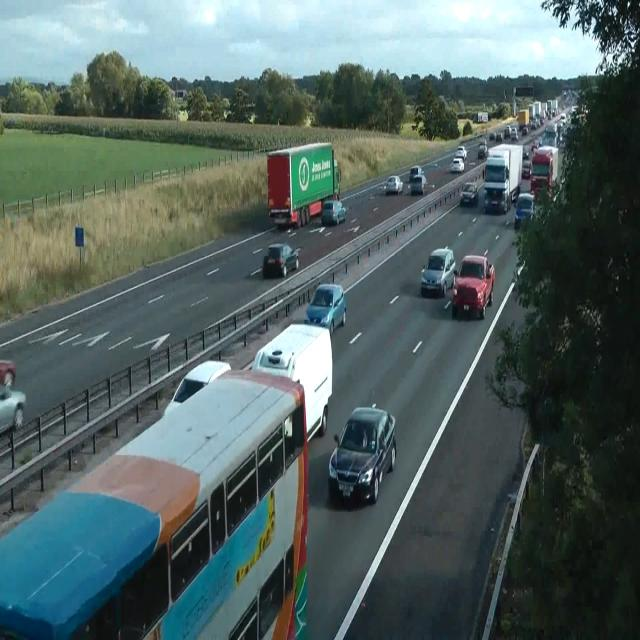bus: (304, 283, 346, 334), (0, 383, 26, 434), (262, 243, 299, 278), (513, 192, 535, 229), (321, 200, 346, 226), (0, 359, 16, 387), (460, 182, 478, 205), (384, 175, 403, 195), (410, 174, 426, 195), (409, 165, 425, 182), (450, 156, 464, 172), (517, 259, 527, 280), (521, 158, 531, 178), (478, 139, 488, 157), (531, 137, 542, 151), (457, 145, 467, 160), (510, 126, 518, 140), (522, 147, 530, 159), (522, 125, 528, 135), (489, 130, 495, 140)
car: (0, 359, 310, 638)
jeep: (252, 321, 332, 442), (328, 403, 397, 505), (163, 358, 231, 415), (452, 252, 494, 318), (420, 246, 456, 297)
minibus: (266, 142, 341, 228), (483, 143, 523, 213), (530, 145, 558, 198), (517, 108, 530, 134), (546, 99, 558, 117), (472, 111, 488, 123)
